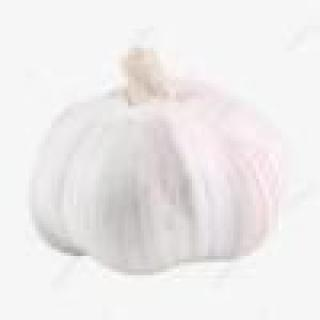Bawang Putih: (30, 39, 292, 273)
